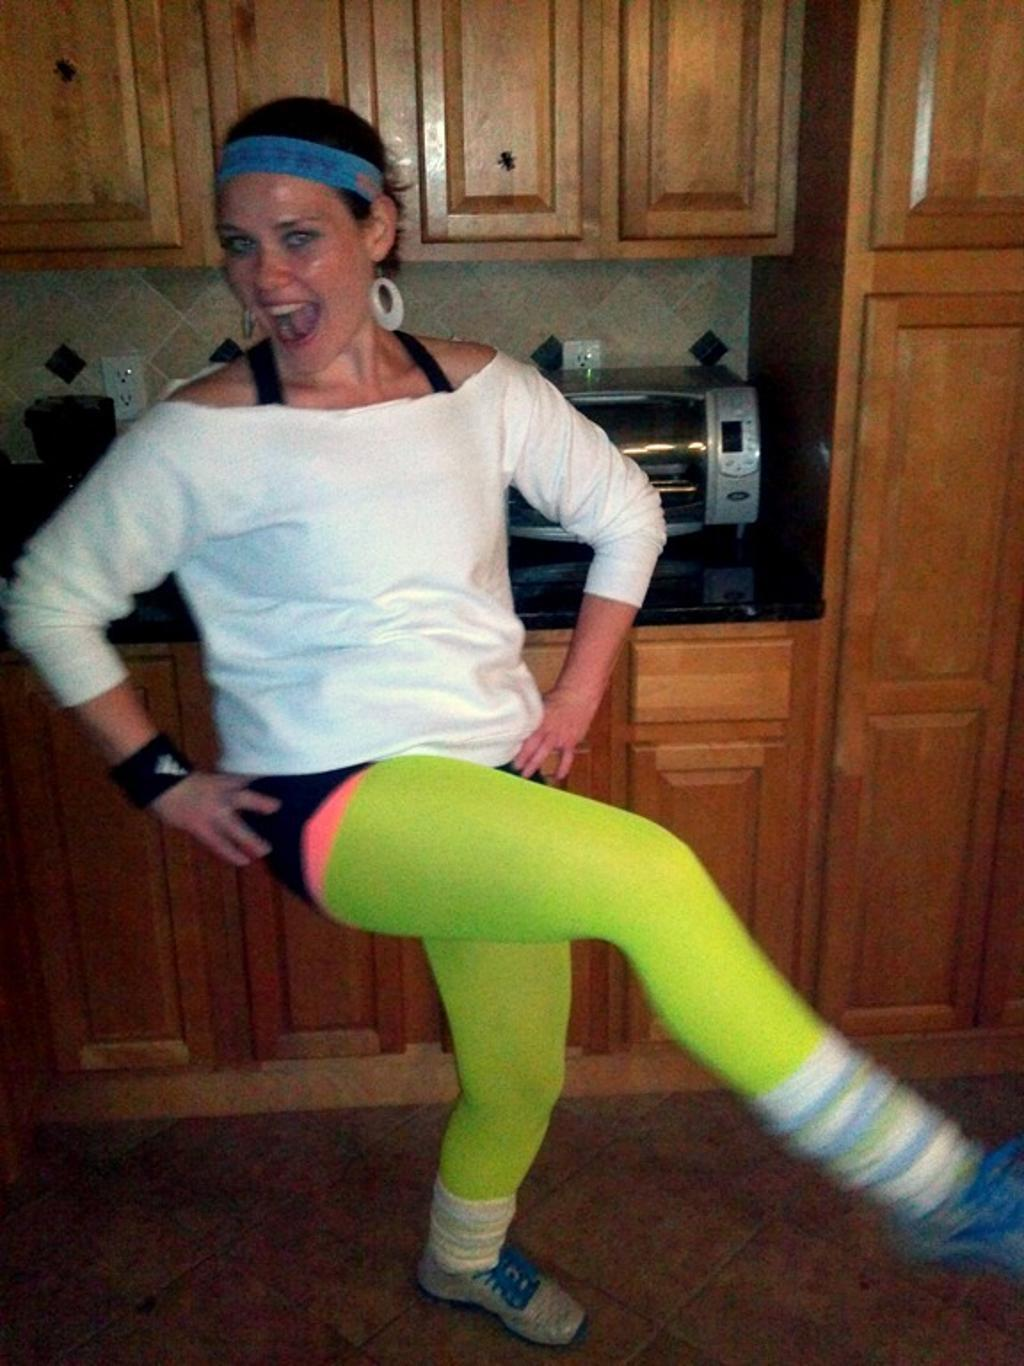face: (214, 169, 366, 388)
